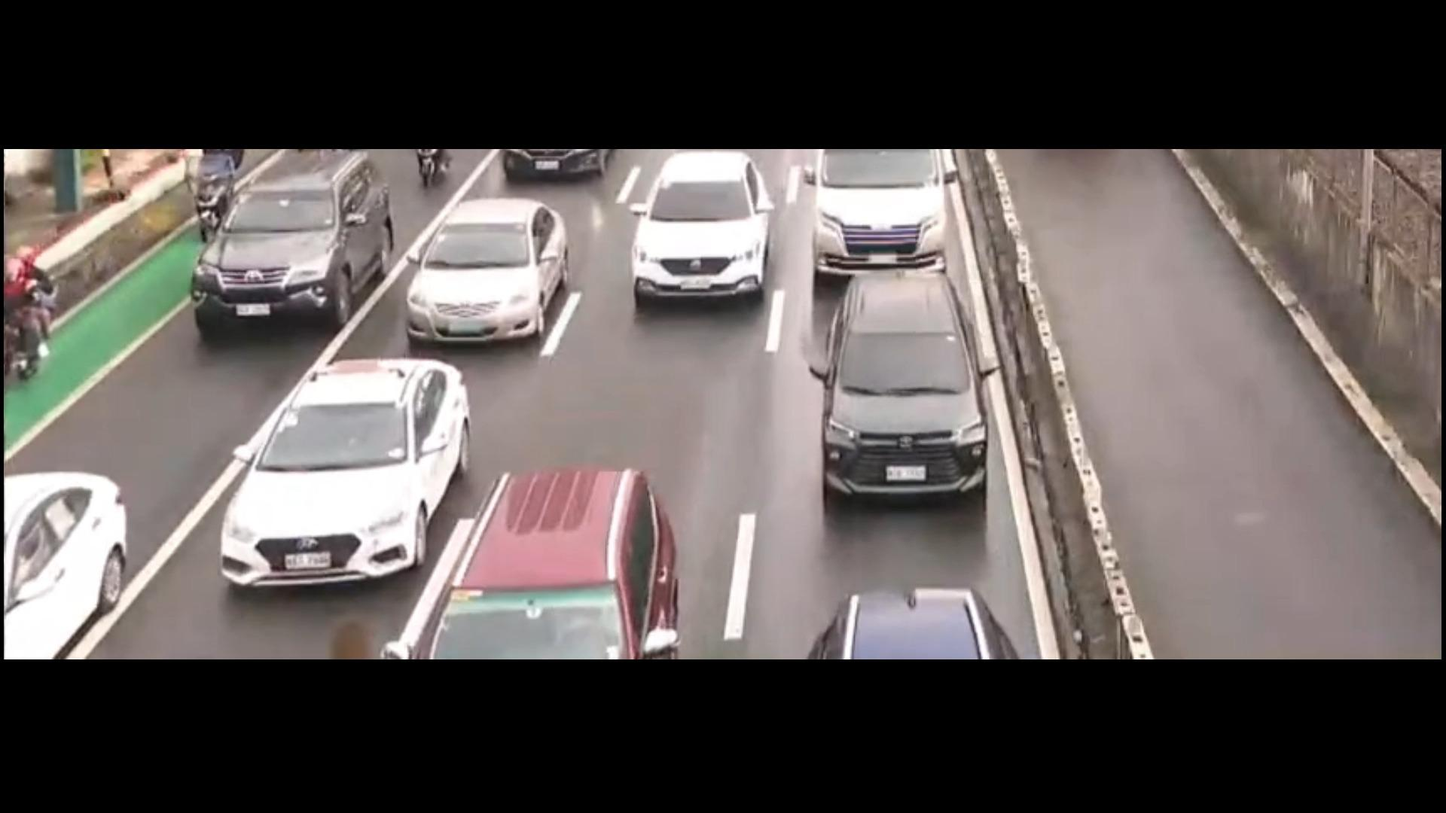Motorcycle: (0, 232, 64, 404), (171, 143, 260, 247), (408, 153, 456, 203)
SUV: (388, 443, 712, 658), (808, 256, 1006, 517), (191, 151, 401, 331), (620, 151, 801, 321)
Sedan: (194, 337, 480, 615), (0, 431, 179, 679), (378, 194, 595, 360)
